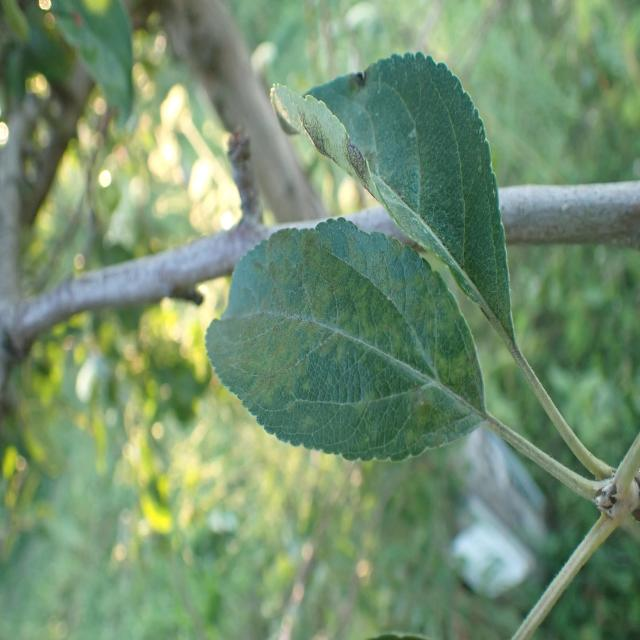scab: (205, 227, 479, 450), (252, 62, 423, 208)
